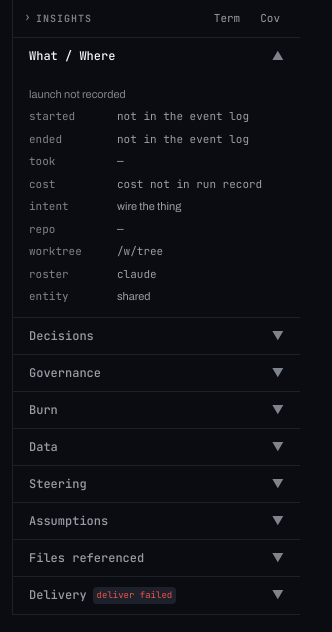
Test: a run that delivered NOTHING (EC56) › a null denial_reason says crew recorded none, and synthesizes nothing
Click the button "Delivery deliver failed ▼" at (156, 595), box [13,576,300,614]
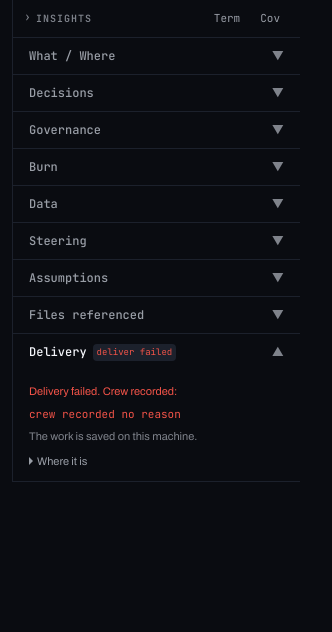
Now the text with test id "run-delivery-reason" reads "crew recorded no reason", box [29,406,181,420]
